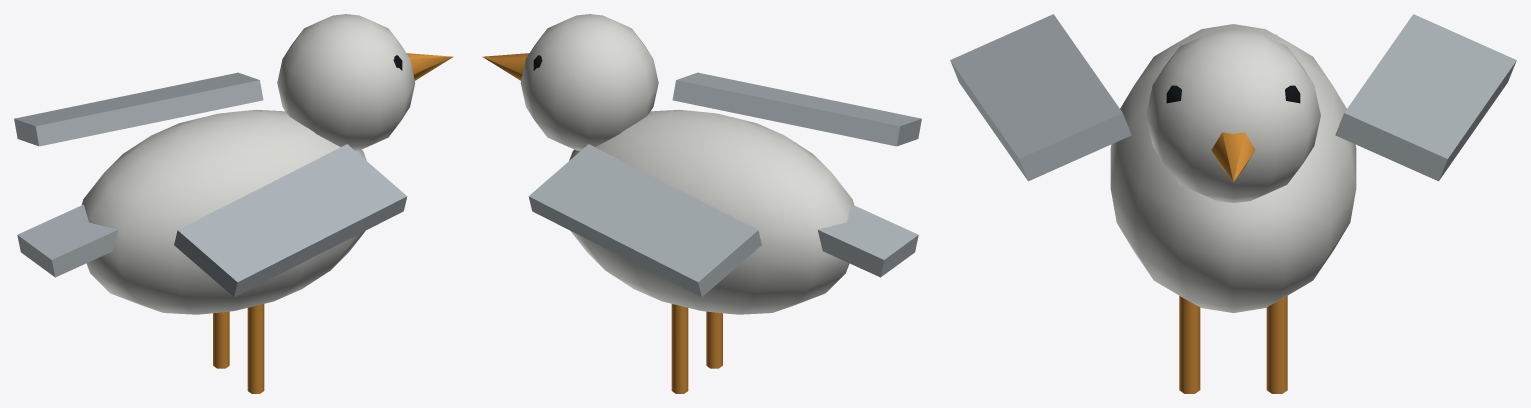
Rendered from seagull.glb.
3 renders of one model, left to right at view 1: azimuth 30°, elevation 25°; view 2: azimuth 150°, elevation 25°; view 3: azimuth 270°, elevation 25°, orthographic. The views are drawn at different scales.
Visible parts, largest first — view 1: seagull; view 2: seagull; view 3: seagull.
Part boxes in pixels (box(x1,y1,x2,y2)): seagull: box(14, 14, 453, 393); seagull: box(482, 14, 921, 393); seagull: box(950, 14, 1516, 393).
Bounding box in the file's own units: 0.7014 × 0.53 × 0.6476.
